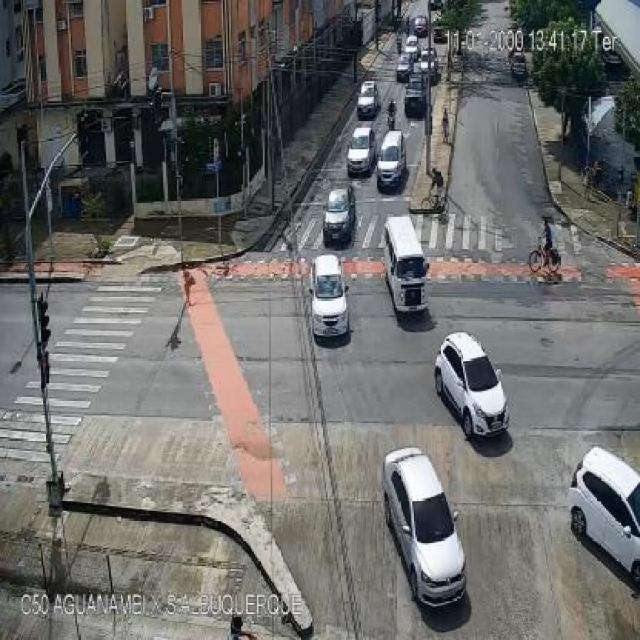Car: (382, 447, 466, 607), (570, 447, 640, 595), (436, 332, 511, 437), (308, 254, 351, 340), (376, 131, 408, 190), (323, 187, 356, 244), (346, 127, 376, 175), (356, 81, 379, 118), (419, 46, 439, 81), (404, 77, 428, 104), (509, 52, 528, 80), (396, 53, 414, 82), (601, 48, 623, 70), (402, 36, 420, 60), (412, 15, 428, 37), (433, 25, 448, 43)
Cycle: (527, 235, 562, 272), (419, 185, 454, 218), (387, 108, 397, 130)
Van: (382, 216, 430, 315)
